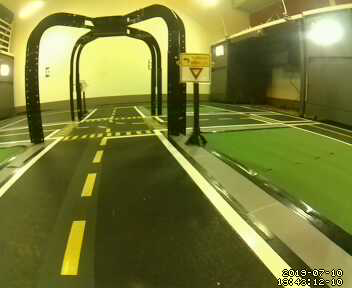Turn Yield: (180, 51, 210, 83)
